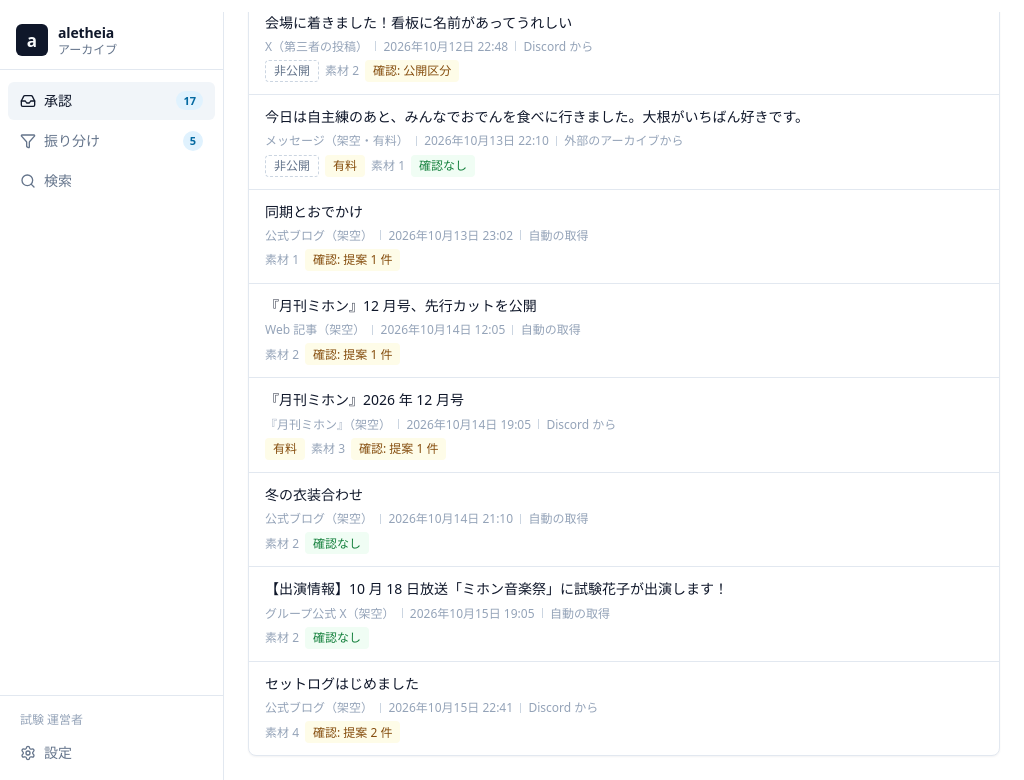
Test: 承認の画面 › 確信度の低い提案に答えると承認でき、答えが記録されて次の下書きへ進む
This screenshot has width=1024, height=780.
(page scrolled)
Click the link "セットログはじめました" at (432, 709), box 265,674 -> 598,743
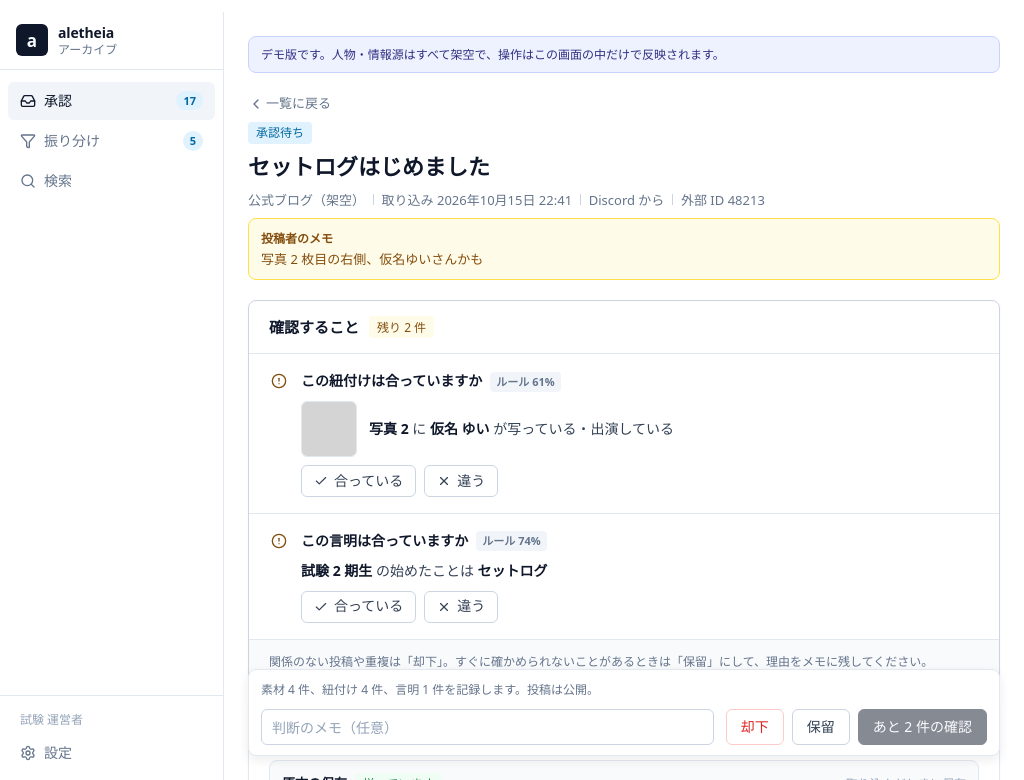
Result: the text "残り 2 件" is shown at 369,316 -> 434,338
Result: the button "あと 2 件の確認" is disabled at 858,709 -> 987,745
Note: 1 件目（写真の人物）は違う、2 件目（言明）は合っている
Click the button "違う" below "仮名 ゆい" at (461, 481), box 424,465 -> 498,497
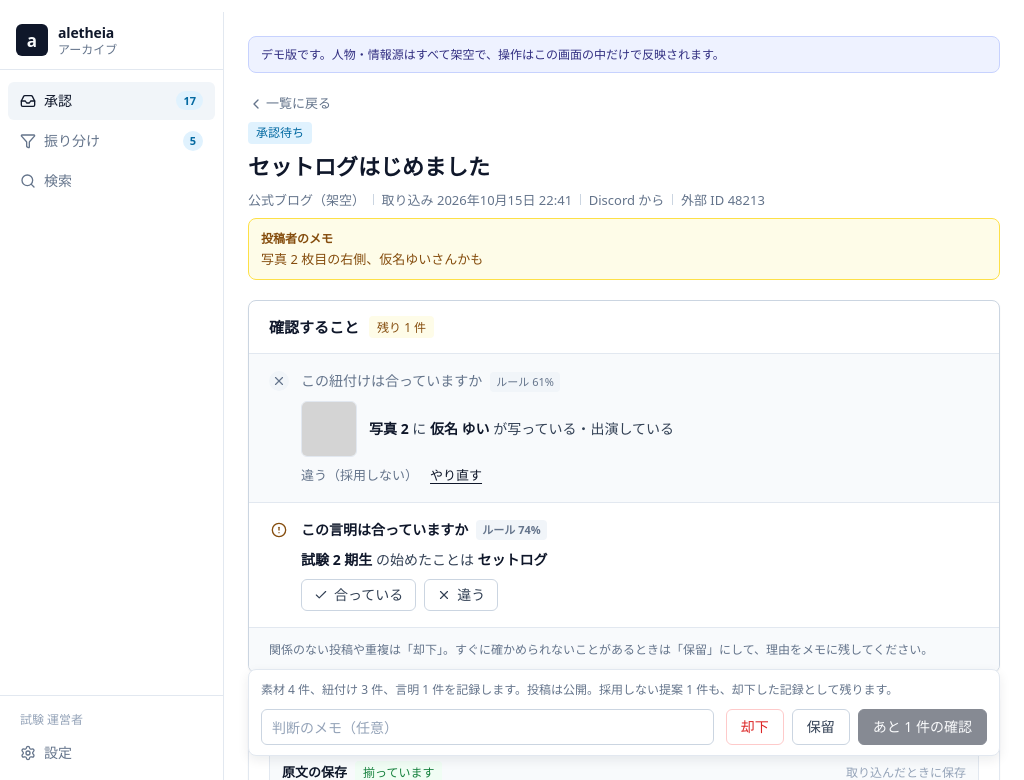
Click the button "合っている" at (359, 595), box 301,579 -> 416,611
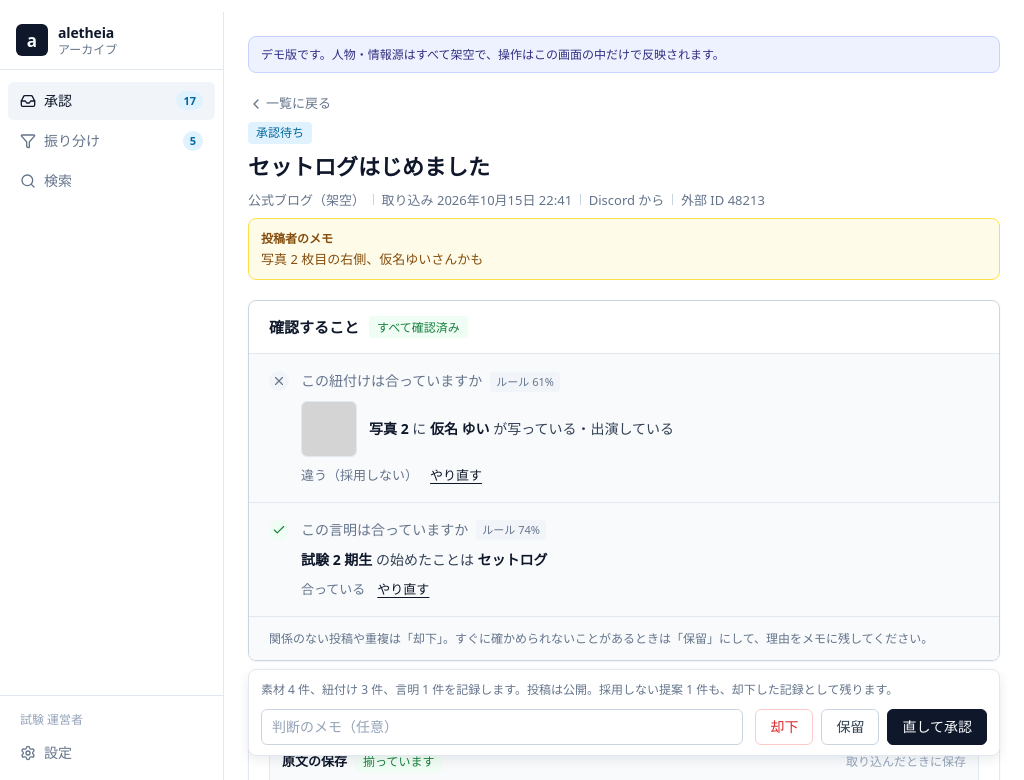
Result: the text "すべて確認済み" is shown at 369,316 -> 468,338
Click the button "直して承認" at (937, 727), box 887,709 -> 987,745
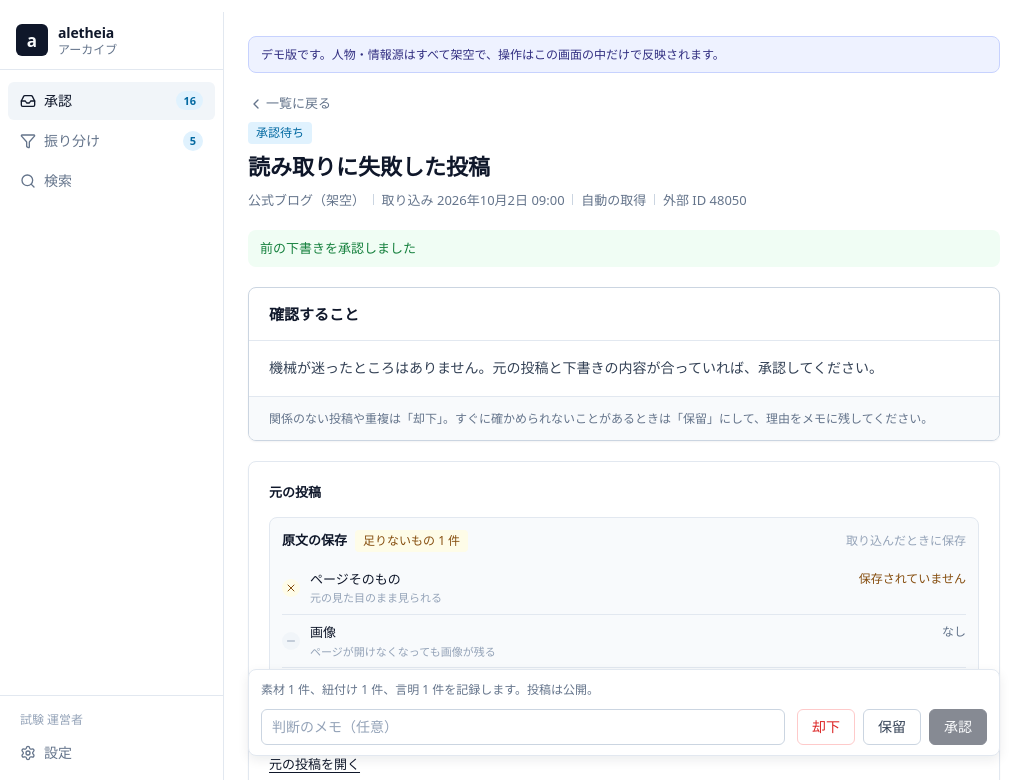
Result: the text "前の下書きを承認しました" is shown at 248,230 -> 1000,267
